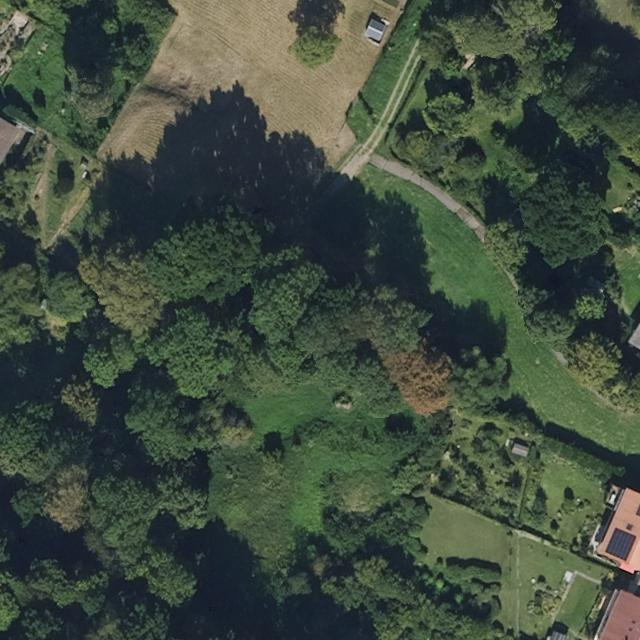PV: (601, 524, 639, 564)
